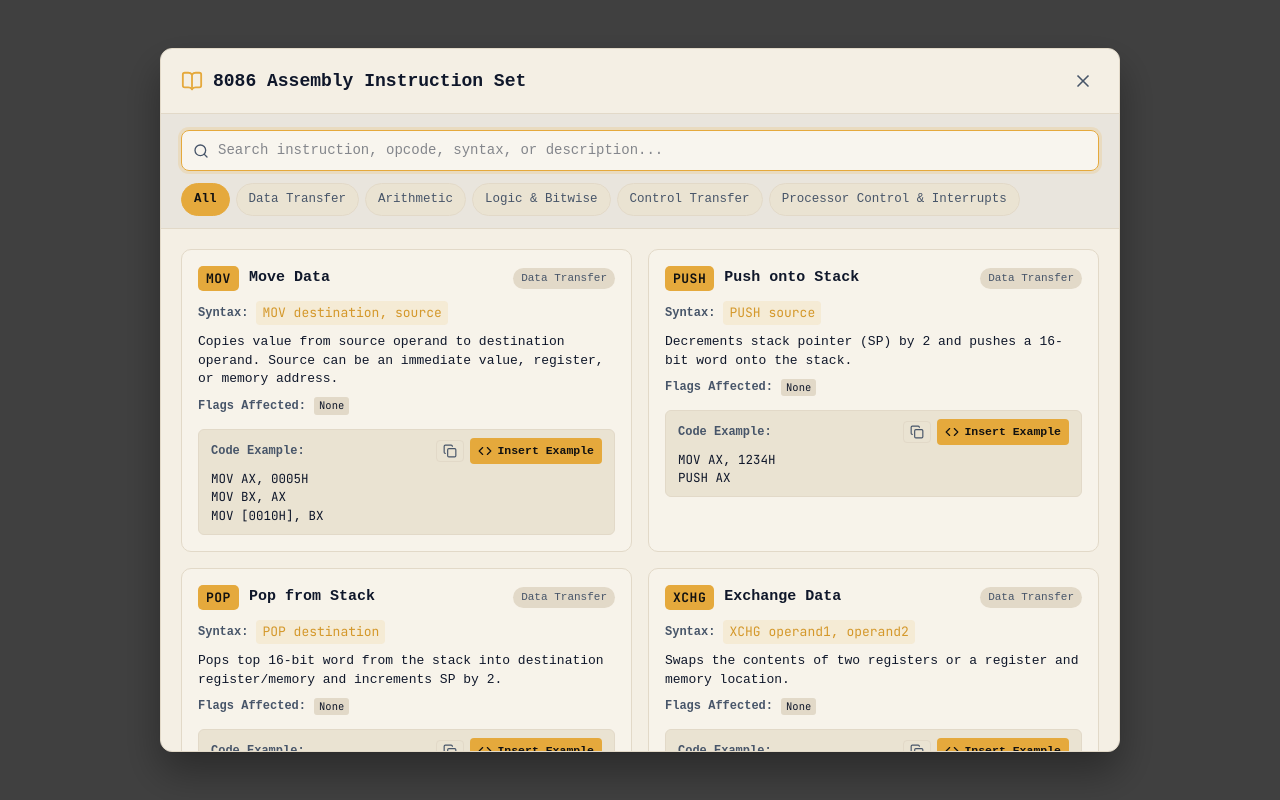
Test: InstructionSetModal Component › filters instructions by search query
The image size is (1280, 800).
Type "XCHG" into the field with placeholder "Search instruction, opcode, syntax, or description...".
click(640, 150); type("XCHG")  # box [181,130,1099,171]
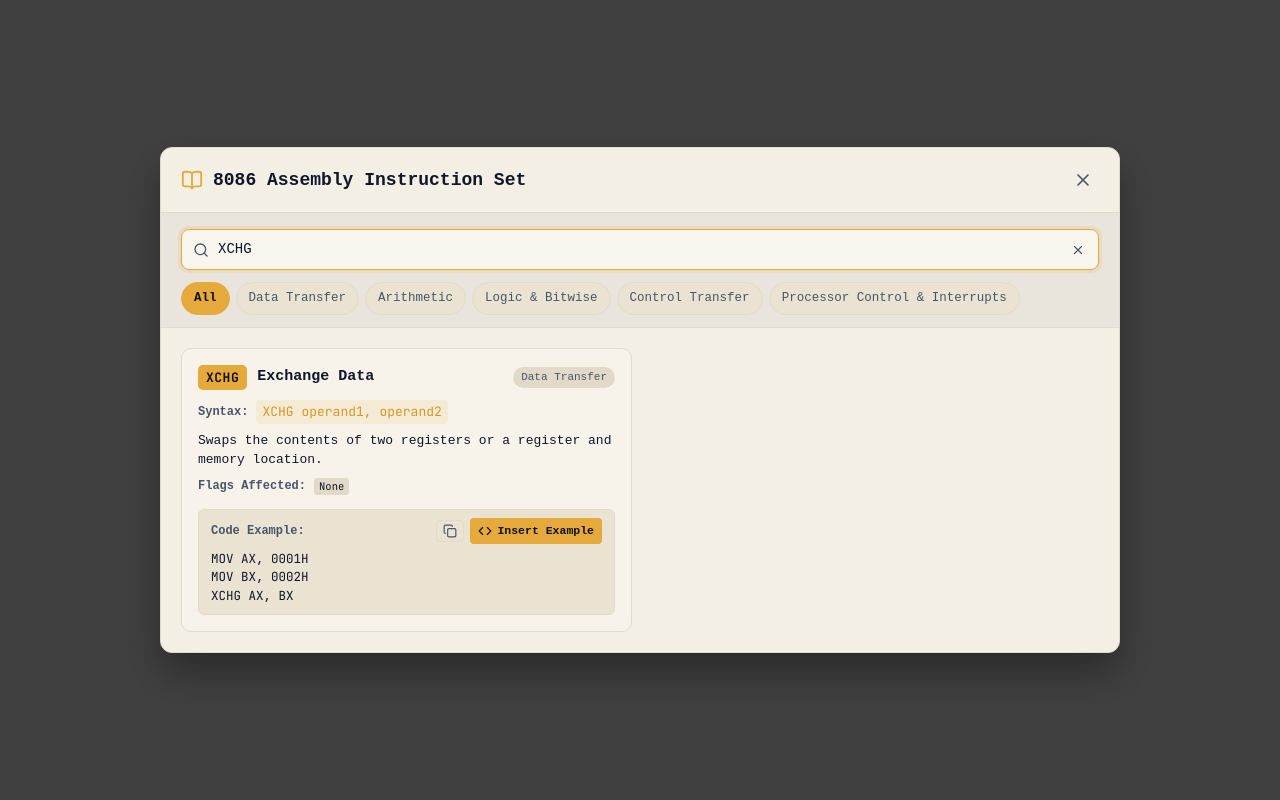
Expected: the text "XCHG" is shown, [198,365,247,390]
Result: the text "ADD" is gone
